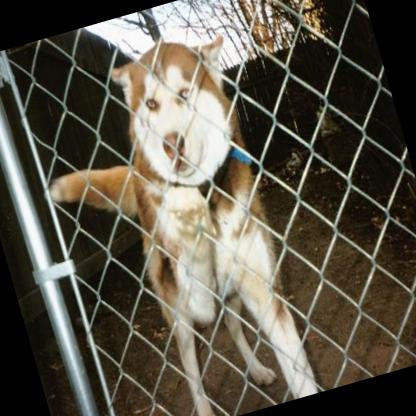Siberian_husky: (9, 24, 321, 416)
